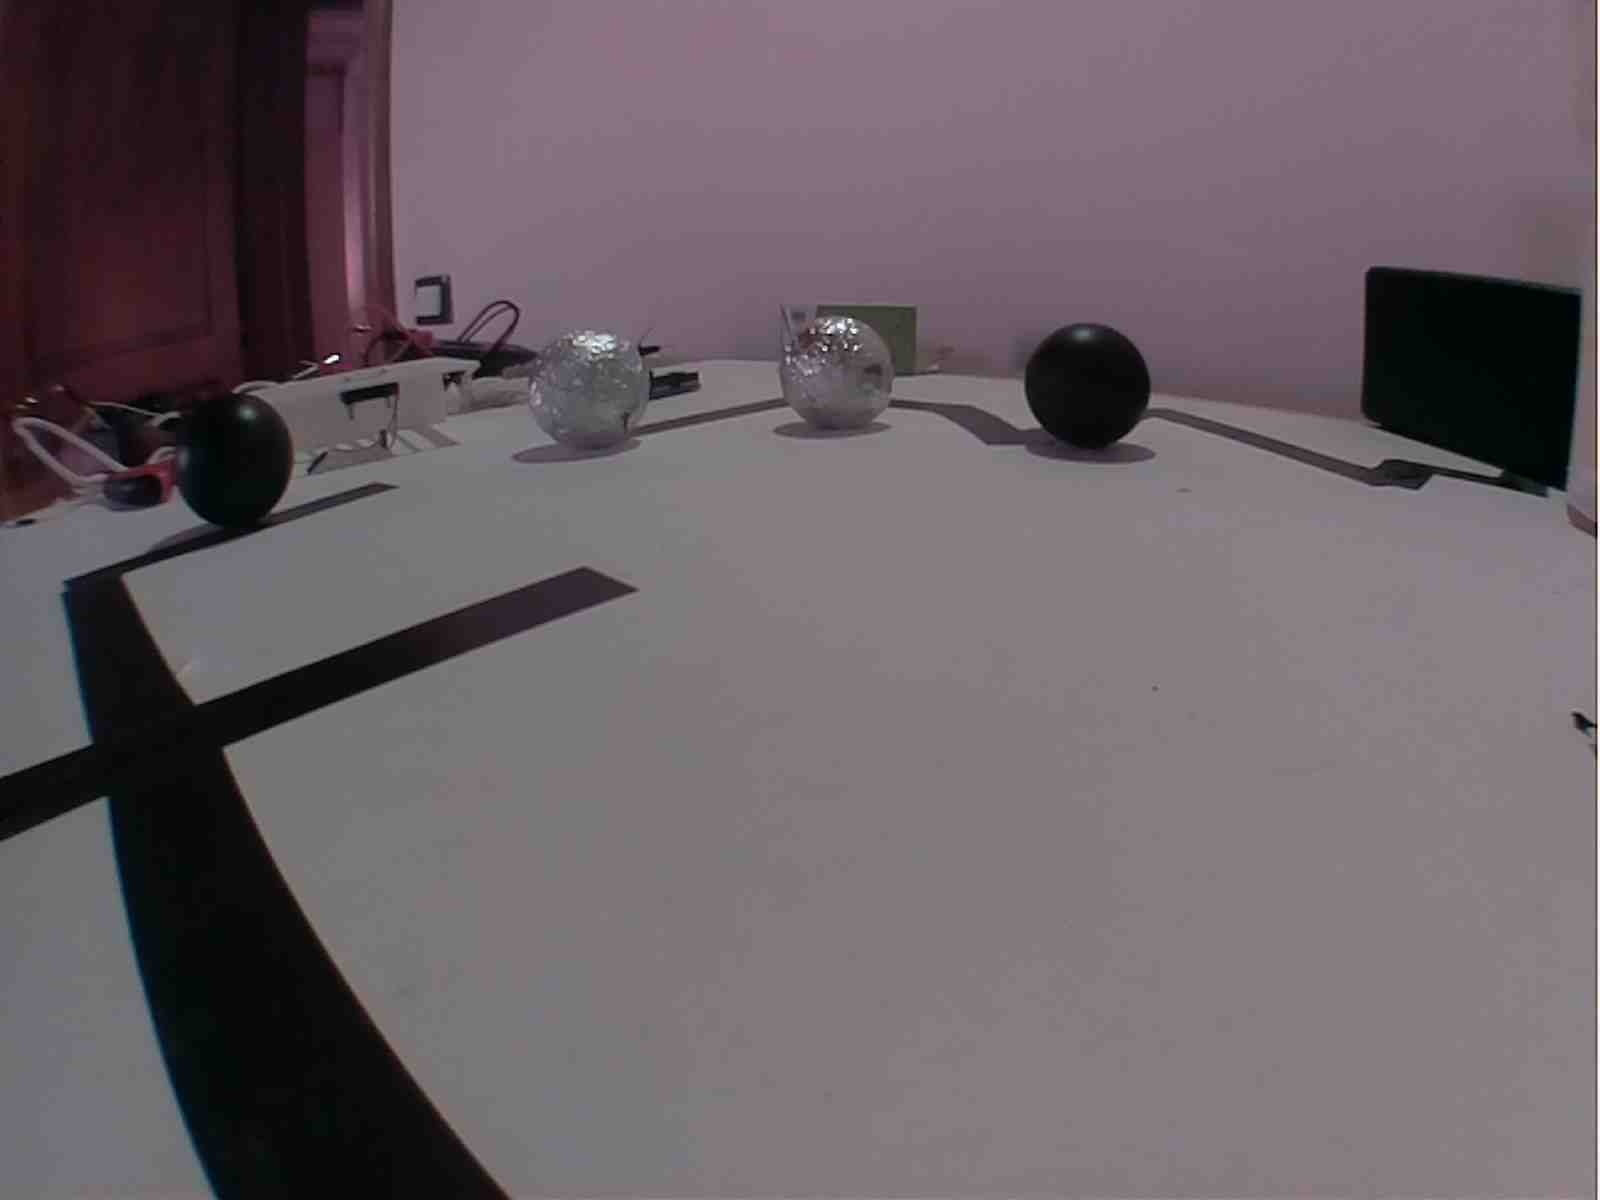bianca: (524, 328, 653, 455), (779, 309, 897, 435)
nera: (160, 386, 305, 537), (1022, 318, 1154, 456)
